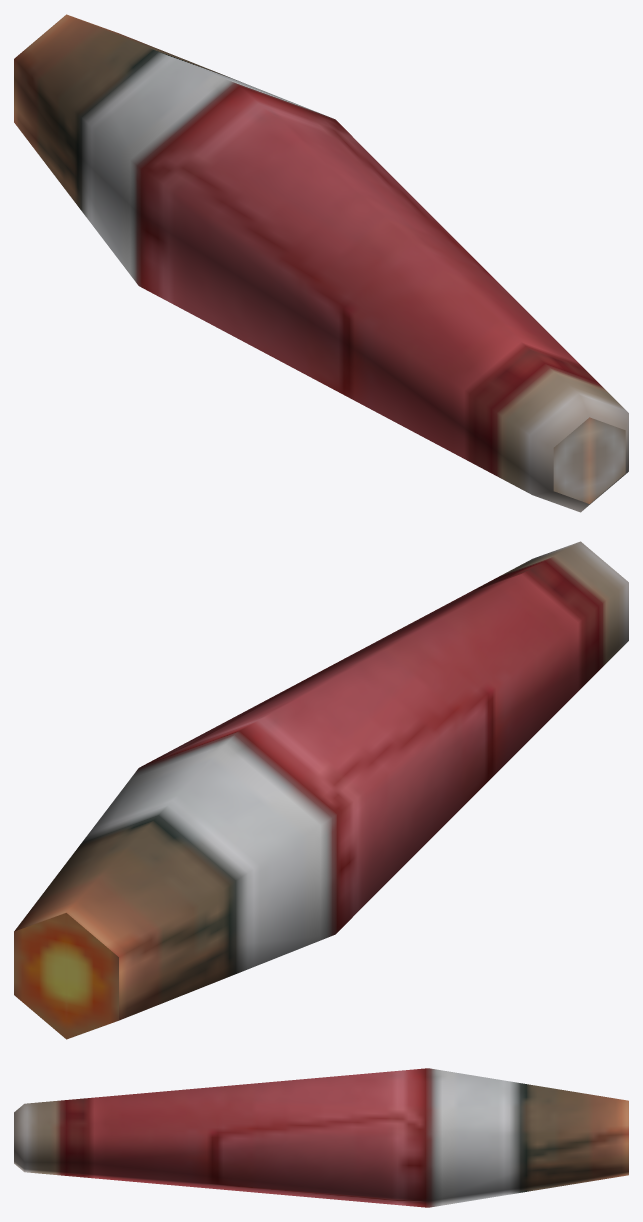
The model's file is Hgn_Missile_Fusion_03.glb.
3 views of the same model, one above another, from view 1: azimuth 30°, elevation 25°; view 2: azimuth 150°, elevation 25°; view 3: azimuth 270°, elevation 25° (orthographic). The views are drawn at different scales.
Parts seen in each view (by area): view 1: Group; view 2: Group; view 3: Group.
Boxes of the visible parts, x1,y1,x2,y2 form: Group: (14,14,628,512); Group: (14,541,628,1039); Group: (14,1068,628,1207).
Size of the model in its own units: 0.0872 by 0.1007 by 0.4018.
1 material, 1 textured.
